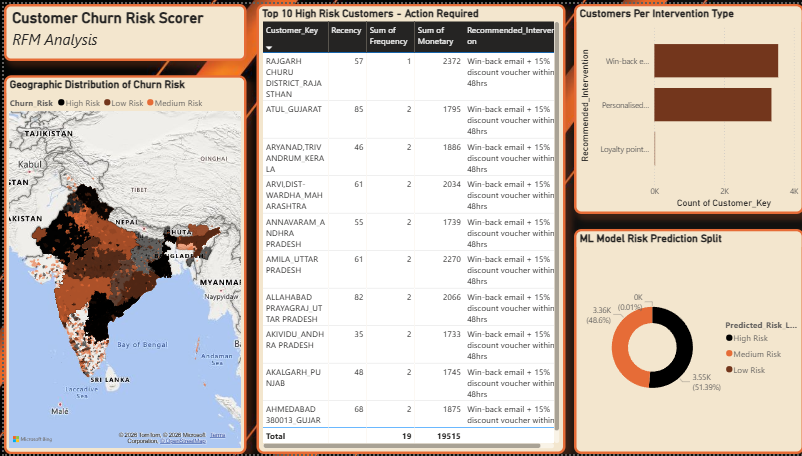

What the dashboard file says about the page in this screenshot:
{"tool":"powerbi","page":{"name":"Intervention Command Centre","canvas":[1280,720],"ordinal":2},"visuals":[{"type":"textbox","title":"Customer Churn Risk Scorer ","box":[0,0,388.1,91],"z":0},{"type":"clusteredBarChart","title":"Customers Per Intervention Type","fields":{"Category":["rfm_scored_customers.Recommended_Intervention"],"Y":["CountNonNull(rfm_scored_customers.Customer_Key)"]},"box":[912,0,368,336],"z":4000},{"type":"filledMap","title":"Geographic Distribution of Churn Risk","fields":{"Category":["rfm_scored_customers.Customer_Key"],"Series":["rfm_scored_customers.Churn_Risk"]},"box":[0,114,388,606],"z":7000},{"type":"donutChart","title":"ML Model Risk Prediction Split","fields":{"Category":["rfm_scored_customers.Predicted_Risk_Label"],"Y":["CountNonNull(rfm_scored_customers.Customer_Key)"]},"box":[912,360,368,360],"z":8000},{"type":"tableEx","title":"Top 10 High Risk Customers - Action Required","fields":{"Values":["rfm_scored_customers.Customer_Key","rfm_scored_customers.Recency","Sum(rfm_scored_customers.Frequency)","Sum(rfm_scored_customers.Monetary)","rfm_scored_customers.Recommended_Intervention"]},"box":[404,0,494,720],"z":9000}]}

Visuals, with their boxes in screenshot pixels (x1, y1, x2, y2), scaled from the page's 1280x720 canvas onto the 802x456 screenshot:
"Customer Churn Risk Scorer " textbox: 0,0,243,58
"Customers Per Intervention Type" clusteredBarChart: 571,0,801,213
"Geographic Distribution of Churn Risk" filledMap: 0,72,243,455
"ML Model Risk Prediction Split" donutChart: 571,228,801,455
"Top 10 High Risk Customers - Action Required" tableEx: 253,0,563,455
